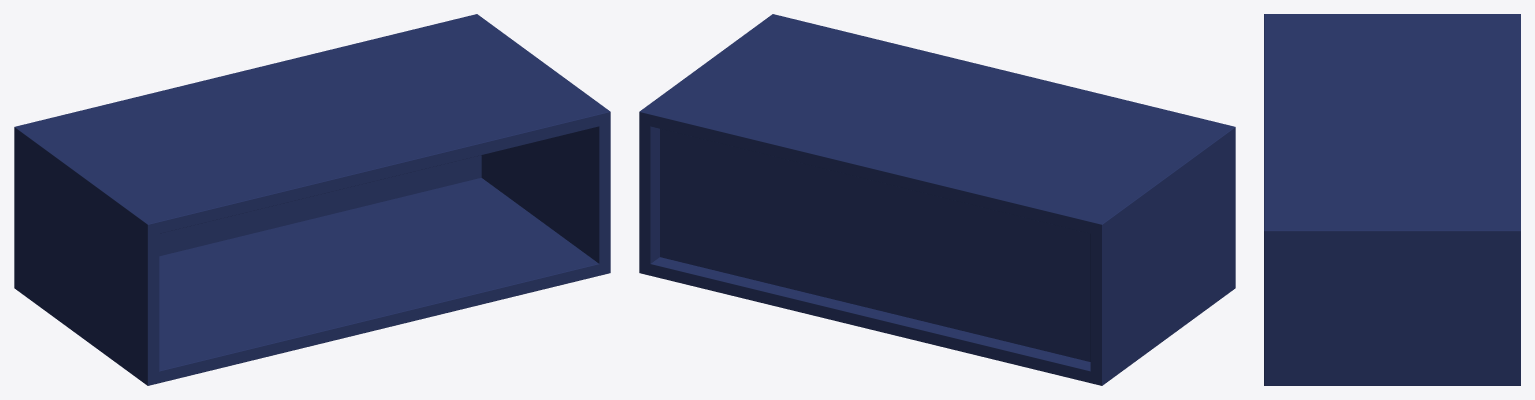
File: MOD_2X07_A_B_AF.glb
3 renders of one model, left to right at view 1: azimuth 30°, elevation 25°; view 2: azimuth 150°, elevation 25°; view 3: azimuth 270°, elevation 25°, orthographic. The views are drawn at different scales.
Bounding box in the file's own units: 720 × 240 × 360.
